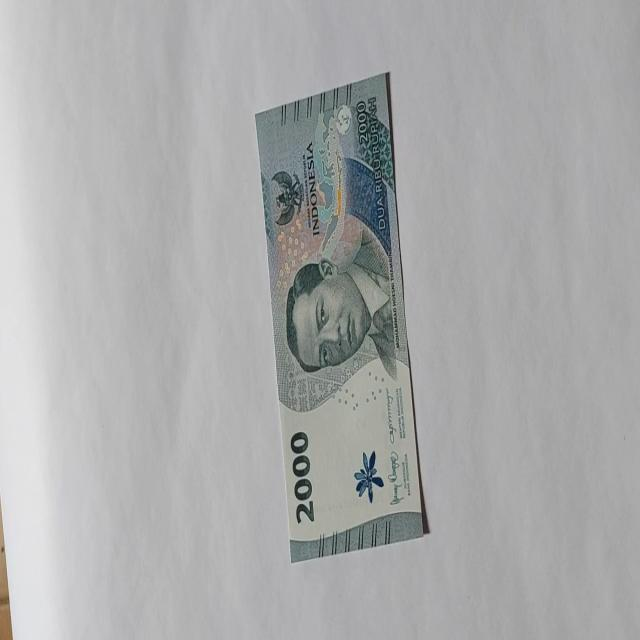dua ribu rupiah: (254, 71, 426, 561), (284, 224, 396, 380)
